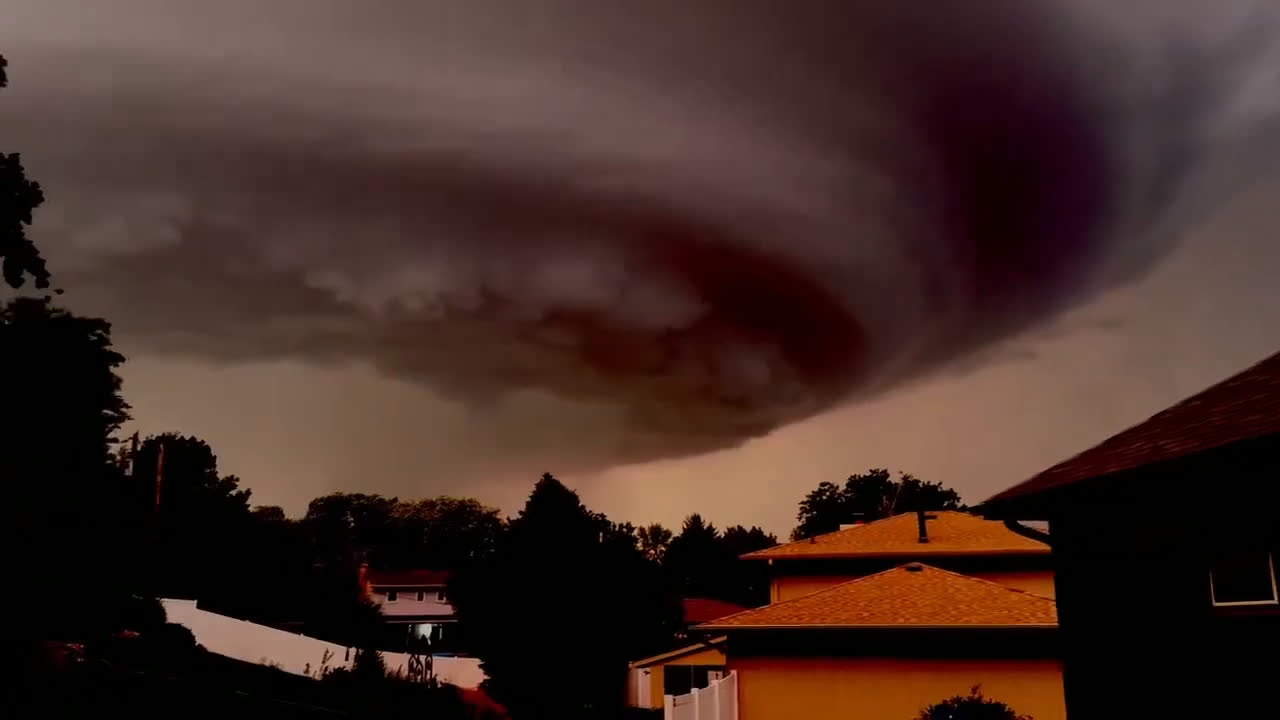FFD: (830, 176, 1279, 519)
RFD: (107, 354, 631, 524)
mesocyclone: (2, 3, 1174, 465)
striations: (2, 2, 1129, 412)
wall cloud: (17, 187, 817, 462)
